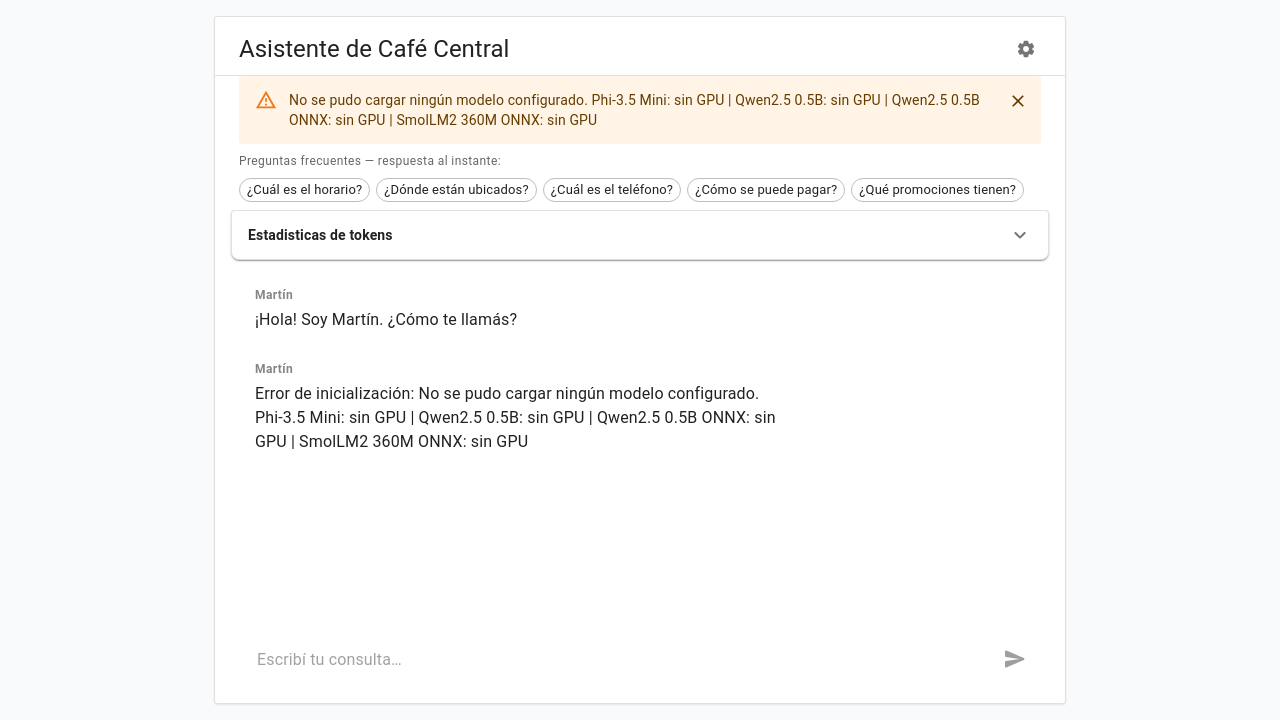
Test: App › si el modelo falla al cargar y se envía una consulta, abre configuración y avisa
Check: the text "Error de inicialización" is shown, box [255,384,780,451]
Type "¿Tienen promociones?" into the text box named "pregunta del cliente" at (610, 659), box [257,648,963,670]
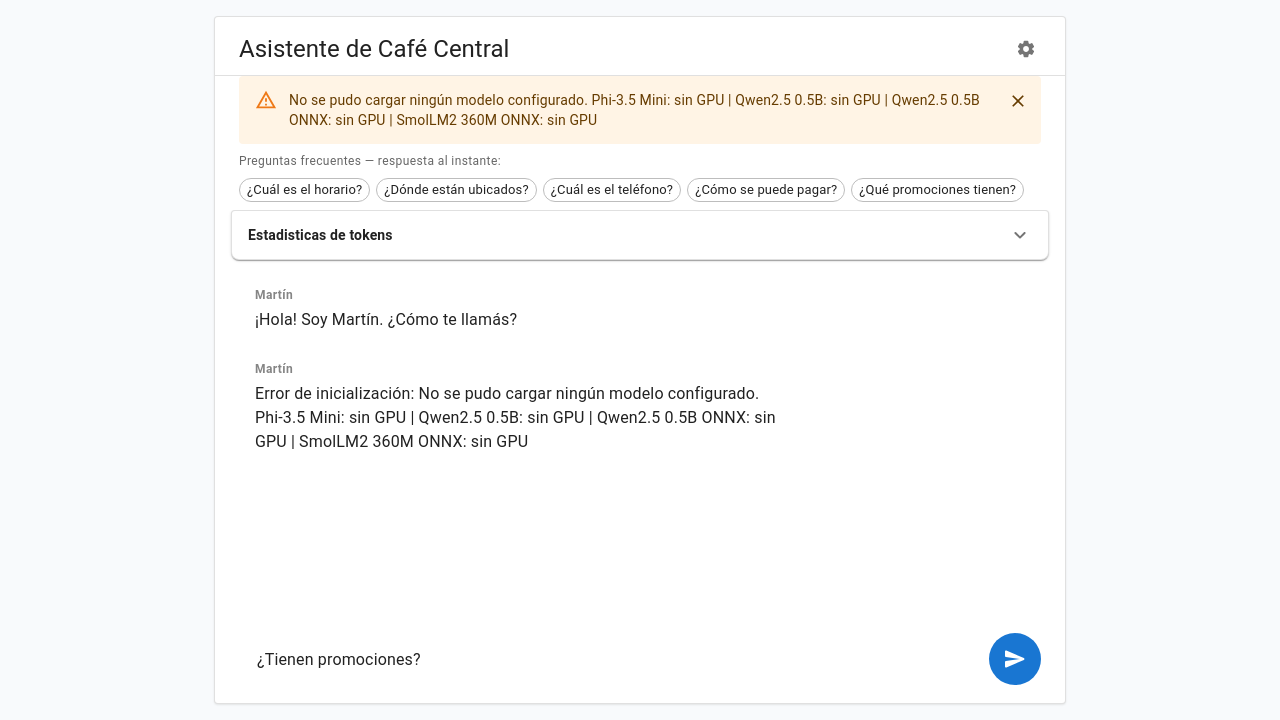
Click the button named "enviar" at (1015, 659), box [989,633,1041,685]
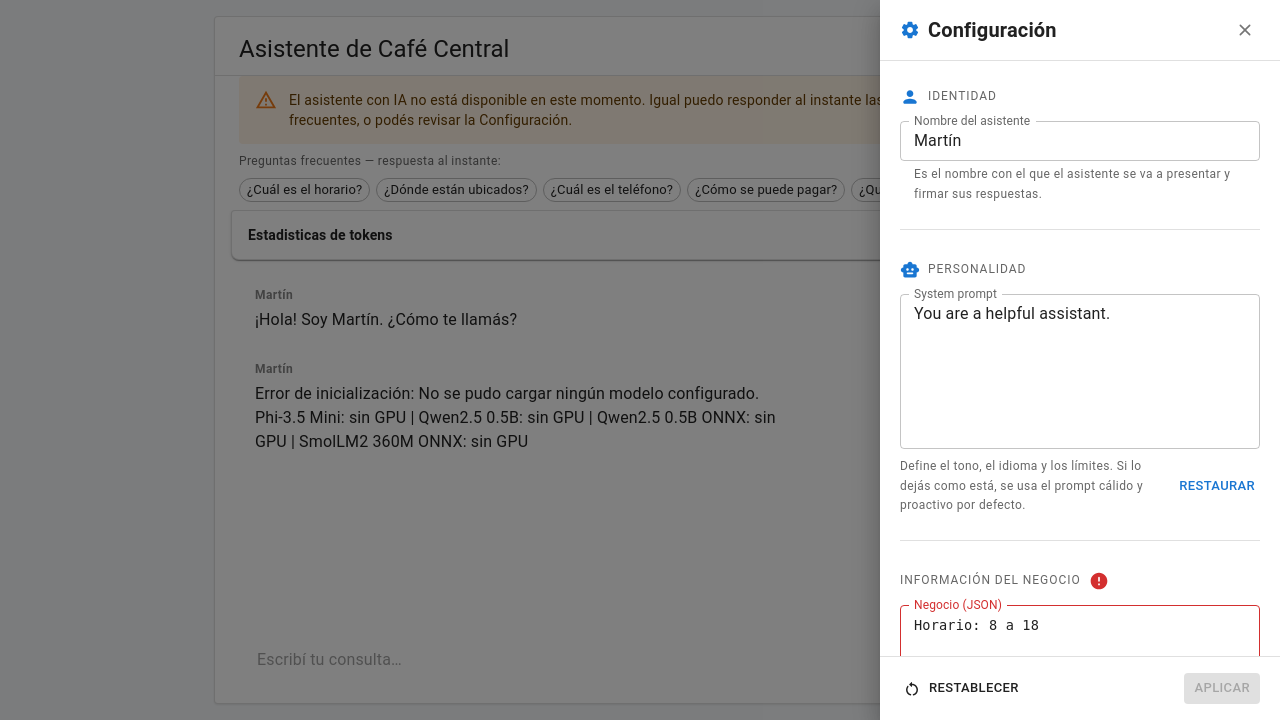
Check: the heading "Configuración" is shown, box [928,14,1057,46]
Check: the text "no está disponible en este momento" is shown, box [289,92,952,128]
